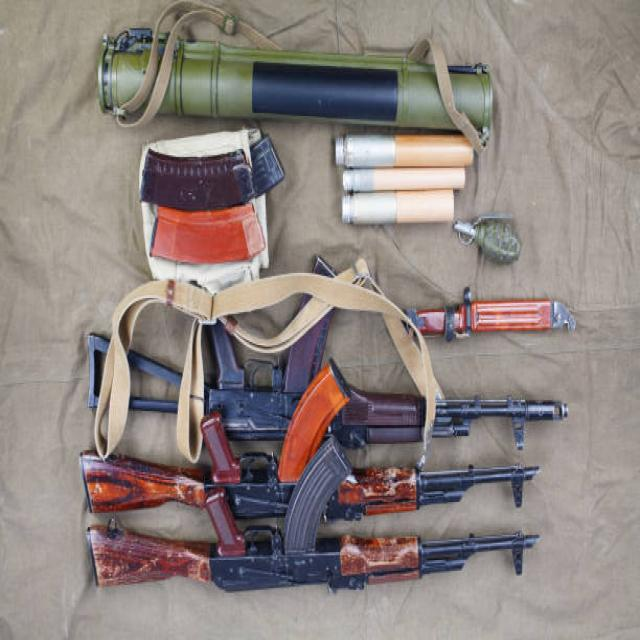grenade: (453, 210, 531, 272)
